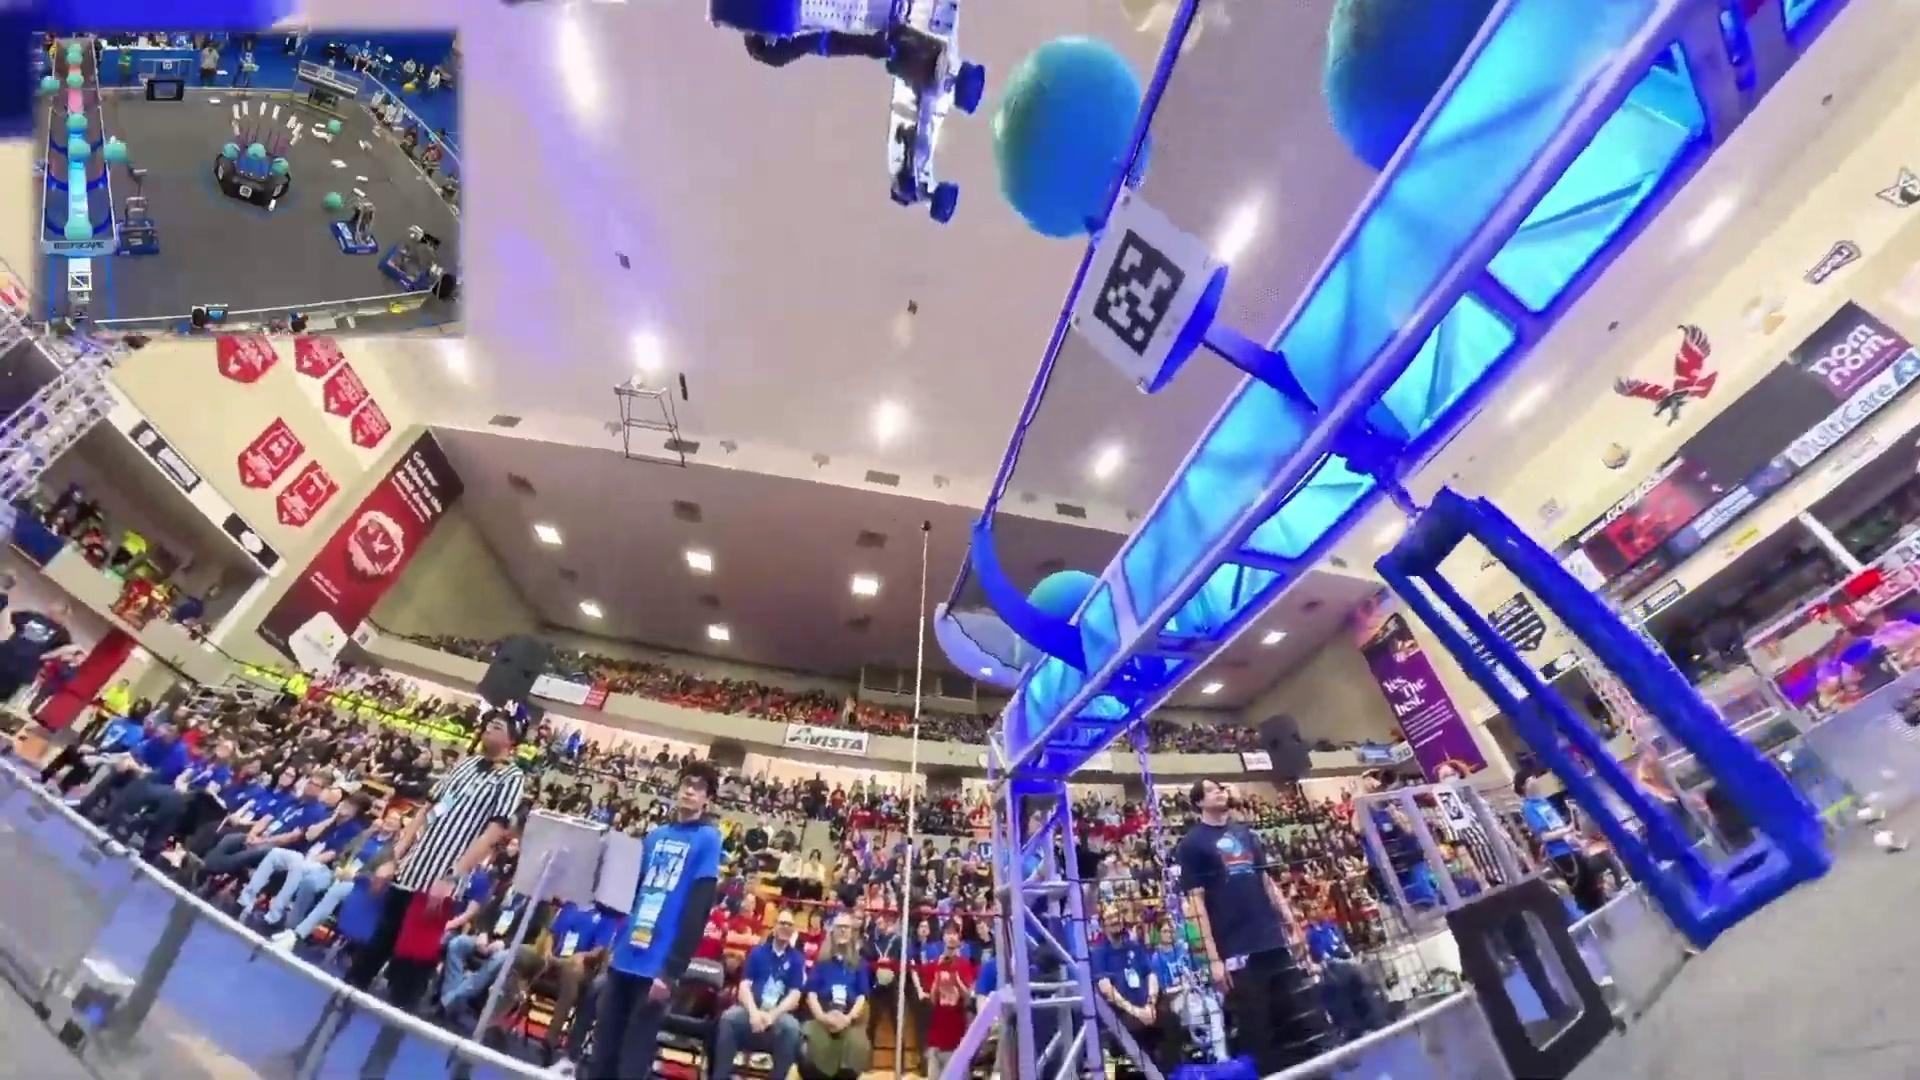robot: (112, 161, 166, 262), (381, 224, 439, 289), (335, 189, 380, 257)
